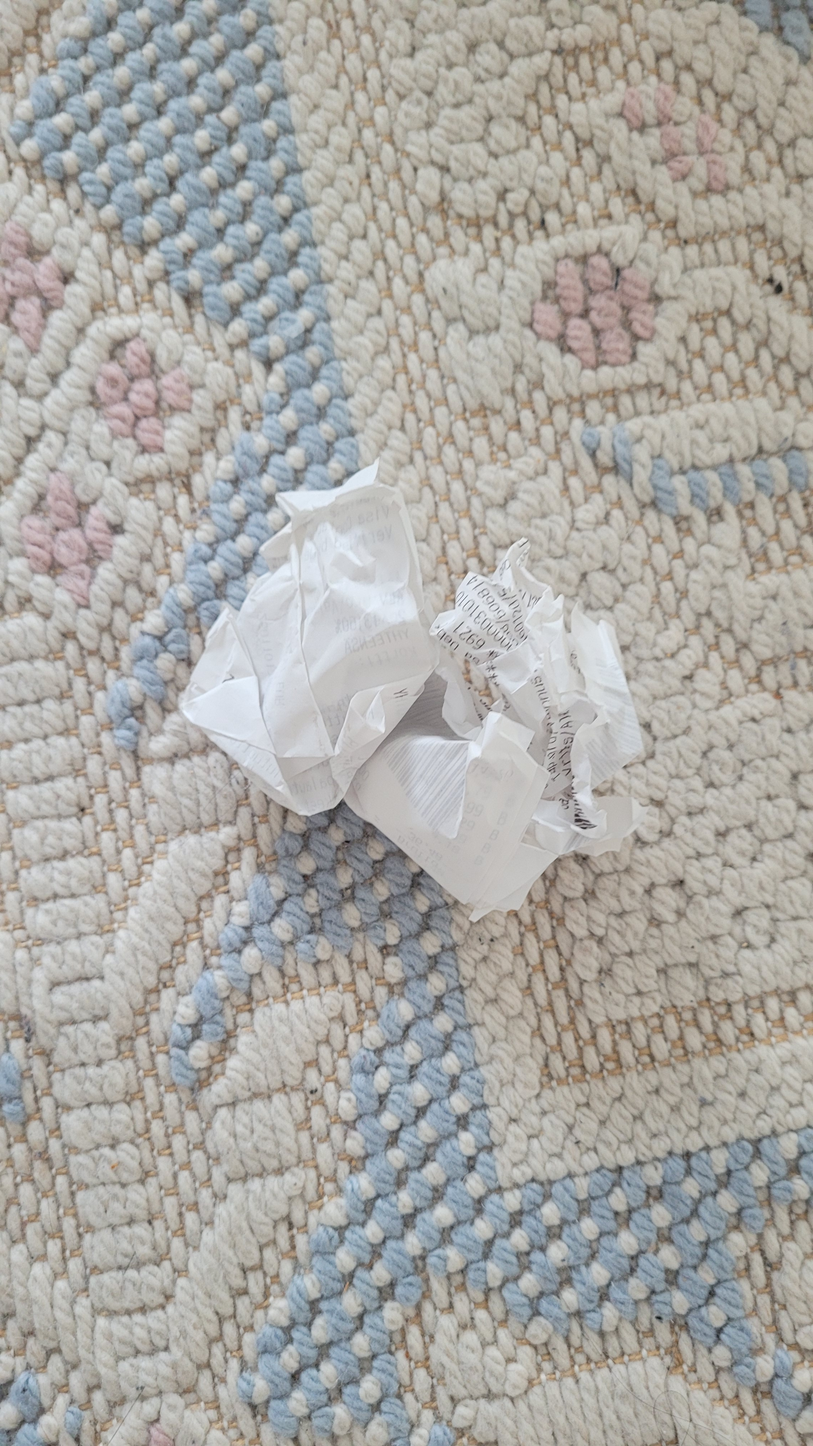paper: (166, 455, 659, 925)
